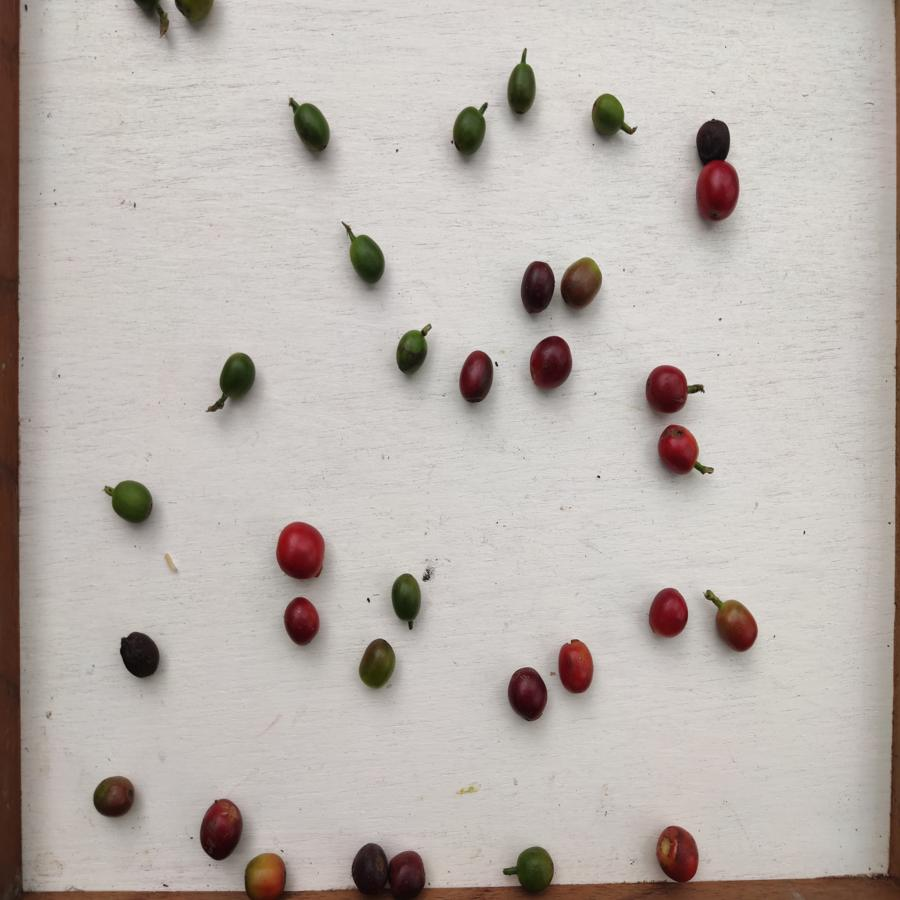Inmaduro: (345, 231, 388, 286), (108, 479, 155, 527), (293, 99, 333, 155), (513, 842, 556, 893), (450, 106, 491, 158), (217, 351, 258, 403), (389, 574, 426, 627), (506, 62, 538, 119), (393, 328, 429, 378), (589, 91, 626, 138)
Maduro: (275, 518, 329, 581), (654, 824, 705, 883), (694, 161, 740, 223), (556, 635, 598, 698), (658, 423, 701, 477), (648, 587, 690, 639), (280, 598, 323, 646)
Pinton: (714, 595, 759, 658), (243, 851, 290, 900), (560, 256, 603, 308), (358, 637, 398, 689), (91, 774, 136, 818)
Sobremaduro: (198, 794, 243, 865), (507, 665, 551, 726), (116, 628, 161, 683), (527, 336, 573, 388), (643, 364, 690, 413), (349, 840, 391, 893), (457, 347, 495, 403), (387, 849, 429, 898), (518, 261, 554, 316), (694, 113, 732, 161)
